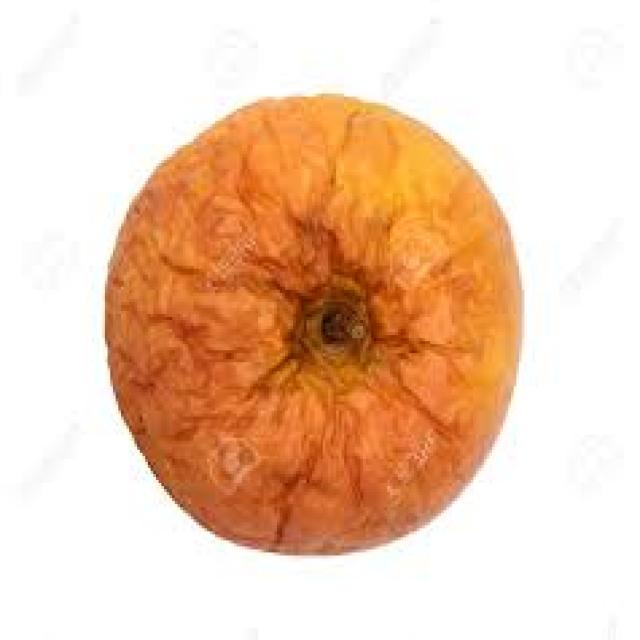overripe: (101, 93, 532, 562)
